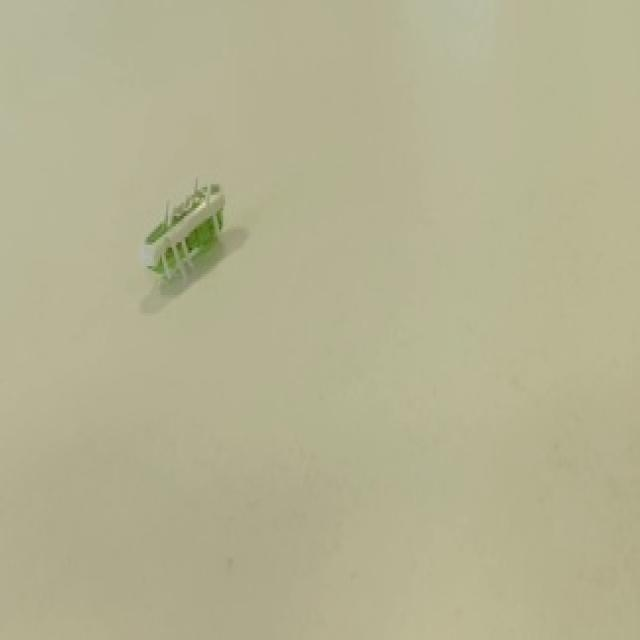4_NanoBug_Blanco: (118, 146, 258, 324)
